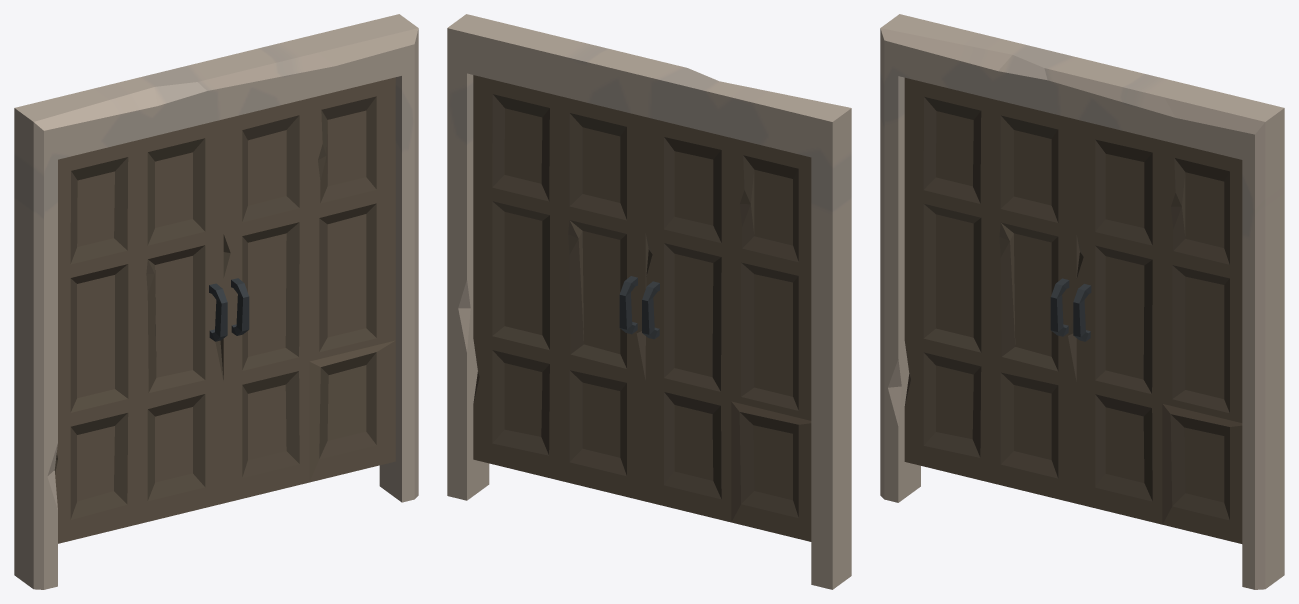
Rendered from SM_Bld_Shop_Door_03.fbx.
The picture shows the model from 3 angles, left to right: view 1: azimuth 30°, elevation 25°; view 2: azimuth 150°, elevation 25°; view 3: azimuth 330°, elevation 25°; orthographic projection.
Parts seen in each view (by area): view 1: SM_Bld_Shop_Door_03_R, SM_Bld_Shop_Door_03_L, SM_Bld_Shop_Door_03; view 2: SM_Bld_Shop_Door_03_R, SM_Bld_Shop_Door_03_L, SM_Bld_Shop_Door_03; view 3: SM_Bld_Shop_Door_03_L, SM_Bld_Shop_Door_03_R, SM_Bld_Shop_Door_03.
Part boxes in pixels (box(x1,y1,x2,y2)): SM_Bld_Shop_Door_03_R: box(220, 77, 395, 503); SM_Bld_Shop_Door_03_L: box(54, 119, 227, 543); SM_Bld_Shop_Door_03: box(14, 14, 418, 589); SM_Bld_Shop_Door_03_R: box(473, 75, 648, 501); SM_Bld_Shop_Door_03_L: box(642, 117, 811, 541); SM_Bld_Shop_Door_03: box(447, 14, 851, 589); SM_Bld_Shop_Door_03_L: box(904, 77, 1079, 503); SM_Bld_Shop_Door_03_R: box(1073, 119, 1242, 543); SM_Bld_Shop_Door_03: box(880, 14, 1284, 589).
Size of the model in its own units: 230 by 266 by 34.64.
